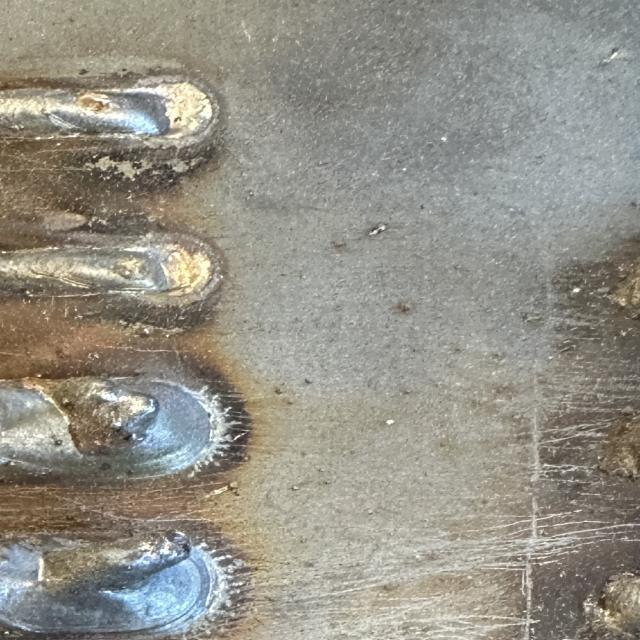Excess Reinforcement: (23, 376, 158, 455), (38, 531, 192, 592)
Spatters: (205, 481, 239, 498), (367, 222, 388, 236), (330, 234, 347, 251), (393, 301, 413, 314), (50, 435, 63, 447), (273, 386, 285, 395), (570, 288, 582, 296), (303, 378, 313, 385), (385, 419, 395, 425)
